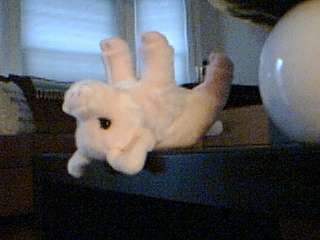piggy: (60, 30, 236, 179)
